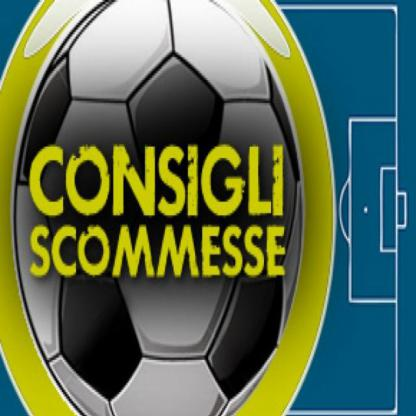Ball: (10, 0, 305, 415)
